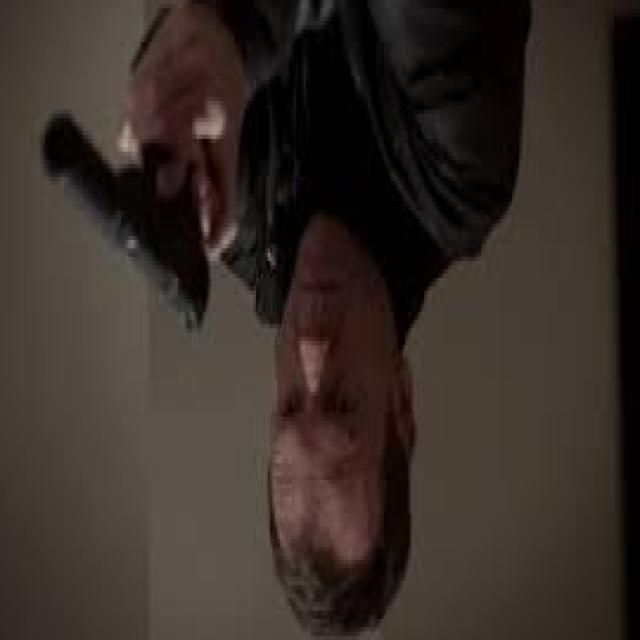gun: (21, 91, 224, 348)
